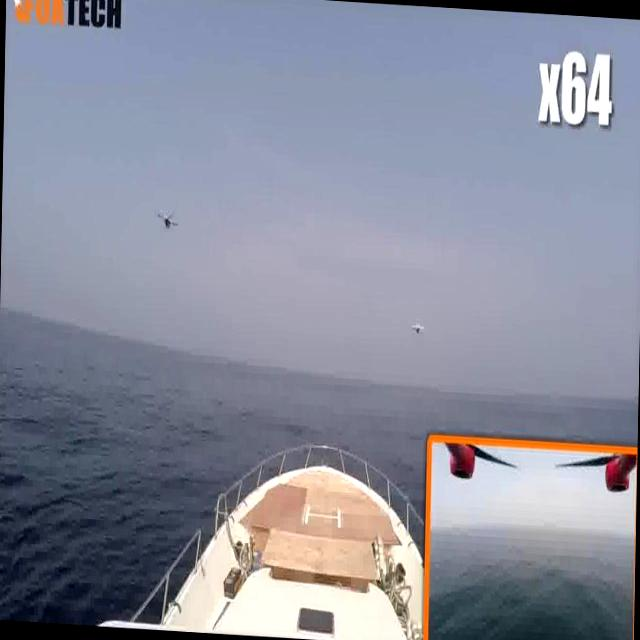drone: (155, 205, 181, 238), (407, 315, 428, 340)
